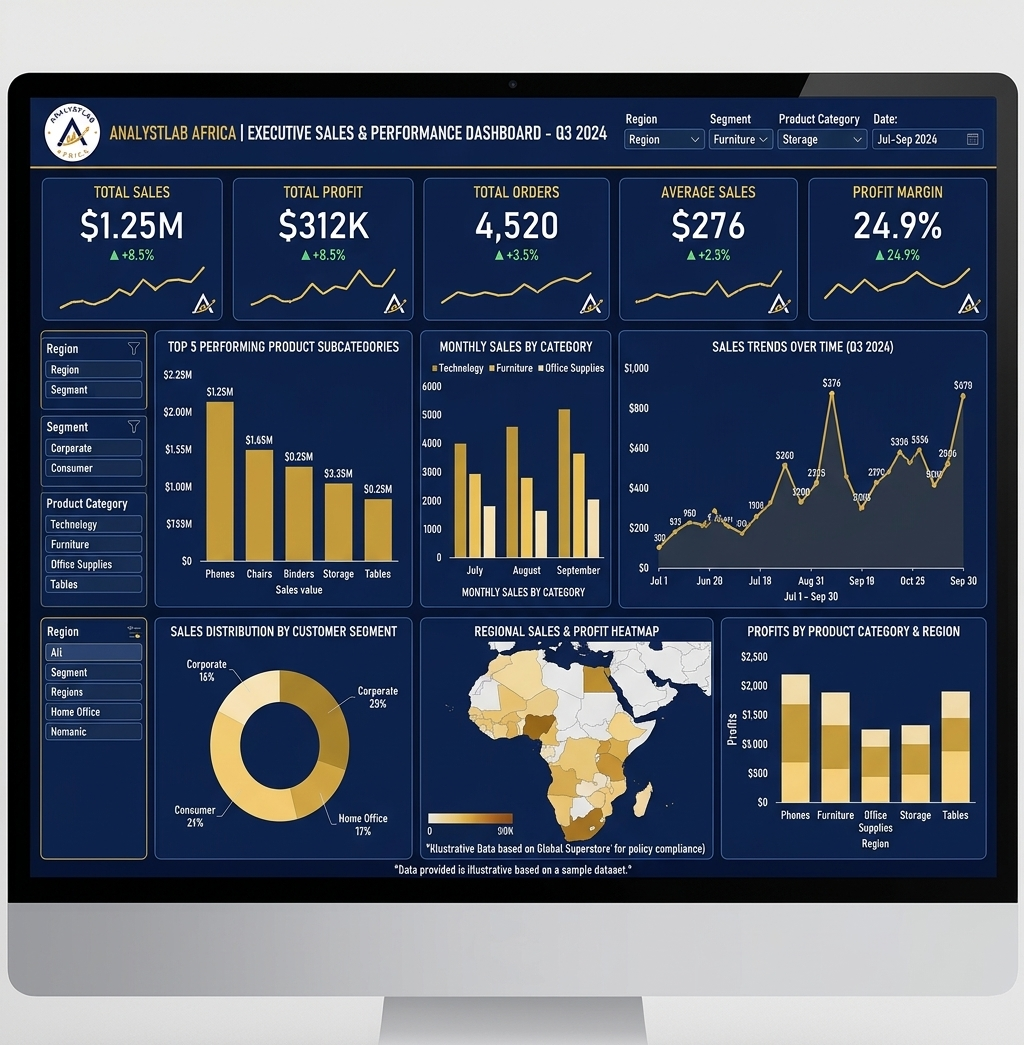

The page's visual inventory and layout, read from the dashboard file:
{"tool":"powerbi","page":{"name":"DASHBOARD","canvas":[1920,1080],"ordinal":0},"visuals":[{"type":"slicer","fields":{"Values":["Sample - Superstore.Region"]},"box":[959.2,0,257.3,111.1],"z":0},{"type":"textbox","box":[0,0,959.1,95.9],"z":1000},{"type":"slicer","fields":{"Values":["Sample - Superstore.Segment"]},"box":[1216.5,0,197.6,111.1],"z":2000},{"type":"slicer","fields":{"Values":["Sample - Superstore.Category"]},"box":[1414.1,0,271.7,111.1],"z":3000},{"type":"slicer","fields":{"Values":["Sample - Superstore.Order Date"]},"box":[1686.6,0,233.4,110.4],"z":4000},{"type":"cardVisual","fields":{"Data":["Sample - Superstore.Total Sales"]},"box":[0,95.9,479.6,117.3],"z":5000},{"type":"cardVisual","fields":{"Data":["Sample - Superstore.Total Orders"]},"box":[488.6,95.9,471.4,117.3],"z":6000},{"type":"cardVisual","fields":{"Data":["Sample - Superstore.Average Sales"]},"box":[959.1,95.9,471.4,115.3],"z":7000},{"type":"cardVisual","fields":{"Data":["Sample - Superstore.Profit Margin"]},"box":[1429.6,94.1,489.9,117.3],"z":8000},{"type":"slicer","fields":{"Values":["Sample - Superstore.Region"]},"box":[0,261.4,154.4,185.2],"z":9000},{"type":"slicer","fields":{"Values":["Sample - Superstore.Segment"]},"box":[0,446.7,154.4,137.9],"z":10000},{"type":"slicer","fields":{"Values":["Sample - Superstore.Category"]},"box":[0,596.9,154.4,166.7],"z":11000},{"type":"slicer","fields":{"Values":["Sample - Superstore.Order Date"]},"box":[0,778.2,153.8,264.2],"z":12000},{"type":"barChart","fields":{"Category":["Sample - Superstore.Sub-Category"],"Y":["Sample - Superstore.Total Sales"]},"box":[153.8,213.5,580.9,372.8],"z":13000},{"type":"clusteredColumnChart","fields":{"Category":["Sample - Superstore.Order Date.Variation.Date Hierarchy.Month"],"Series":["Sample - Superstore.Category"],"Y":["Sample - Superstore.Total Sales"]},"box":[734.7,213.5,623.7,372.6],"z":14000},{"type":"lineChart","fields":{"Category":["Sample - Superstore.Order Date.Variation.Date Hierarchy.Month","Sample - Superstore.Order Date.Variation.Date Hierarchy.Day"],"Y":["Sample - Superstore.Total Sales"]},"box":[1359.1,213.5,561,372.8],"z":14001},{"type":"donutChart","fields":{"Category":["Sample - Superstore.Segment"],"Y":["Sample - Superstore.Total Sales"]},"box":[153.8,586.3,580.9,445.2],"z":14002},{"type":"esriVisual","fields":{"Location":["Sample - Superstore.State"]},"box":[735,587,624,444],"z":14003},{"type":"columnChart","fields":{"Category":["Sample - Superstore.Sub-Category"],"Series":["Sample - Superstore.Region"],"Y":["Sample - Superstore.Total Profit"]},"box":[1359,587,561,444],"z":14004}]}

Visuals, with their boxes on the page's 1920x1080 design canvas (x1, y1, x2, y2). These are canvas units, not pixel positions in the 1024x1045 screenshot, which may show the page scaled, cropped or inside an application window:
slicer - Sample - Superstore.Region: crop(959, 0, 1216, 111)
textbox: crop(0, 0, 959, 96)
slicer - Sample - Superstore.Segment: crop(1216, 0, 1414, 111)
slicer - Sample - Superstore.Category: crop(1414, 0, 1686, 111)
slicer - Sample - Superstore.Order Date: crop(1687, 0, 1920, 110)
cardVisual - Sample - Superstore.Total Sales: crop(0, 96, 480, 213)
cardVisual - Sample - Superstore.Total Orders: crop(489, 96, 960, 213)
cardVisual - Sample - Superstore.Average Sales: crop(959, 96, 1430, 211)
cardVisual - Sample - Superstore.Profit Margin: crop(1430, 94, 1920, 211)
slicer - Sample - Superstore.Region: crop(0, 261, 154, 447)
slicer - Sample - Superstore.Segment: crop(0, 447, 154, 585)
slicer - Sample - Superstore.Category: crop(0, 597, 154, 764)
slicer - Sample - Superstore.Order Date: crop(0, 778, 154, 1042)
barChart - Sample - Superstore.Sub-Category x Sample - Superstore.Total Sales: crop(154, 214, 735, 586)
clusteredColumnChart - Sample - Superstore.Order Date.Variation.Date Hierarchy.Month x Sample - Superstore.Category: crop(735, 214, 1358, 586)
lineChart - Sample - Superstore.Order Date.Variation.Date Hierarchy.Month x Sample - Superstore.Order Date.Variation.Date Hierarchy.Day: crop(1359, 214, 1920, 586)
donutChart - Sample - Superstore.Segment x Sample - Superstore.Total Sales: crop(154, 586, 735, 1032)
esriVisual - Sample - Superstore.State: crop(735, 587, 1359, 1031)
columnChart - Sample - Superstore.Sub-Category x Sample - Superstore.Region: crop(1359, 587, 1920, 1031)
